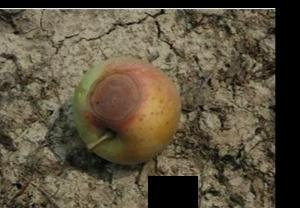rotten apple: (75, 61, 180, 166)
